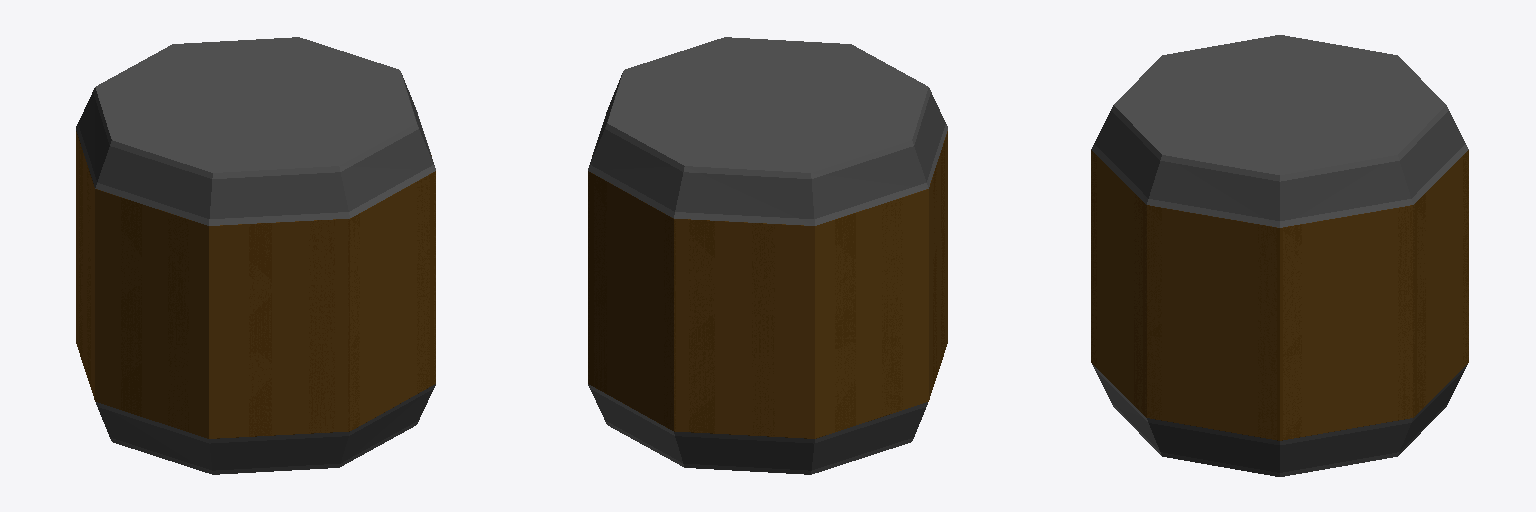
The picture shows the model from 3 angles: view 1: azimuth 30°, elevation 25°; view 2: azimuth 150°, elevation 25°; view 3: azimuth 270°, elevation 25°; orthographic projection.
Parts seen in each view (by area): view 1: Cylinder; view 2: Cylinder; view 3: Cylinder.
Part boxes in pixels (left/top/right/bottom): Cylinder: left=76, top=37, right=435, bottom=474; Cylinder: left=588, top=37, right=947, bottom=474; Cylinder: left=1091, top=35, right=1468, bottom=476.
Bounding box in the file's own units: 2.23 × 2 × 2.27.
1 materials, 1 textured.